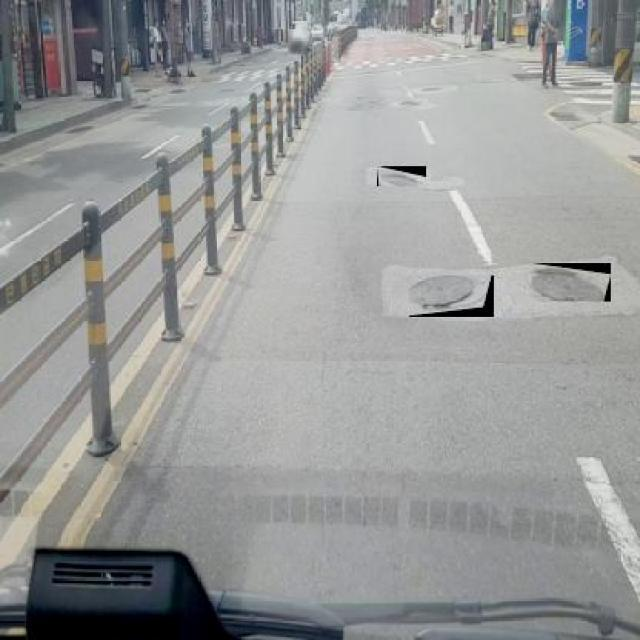Manhole: (409, 276, 494, 318), (530, 263, 610, 302), (378, 166, 427, 186), (398, 100, 420, 108), (416, 86, 444, 92)
